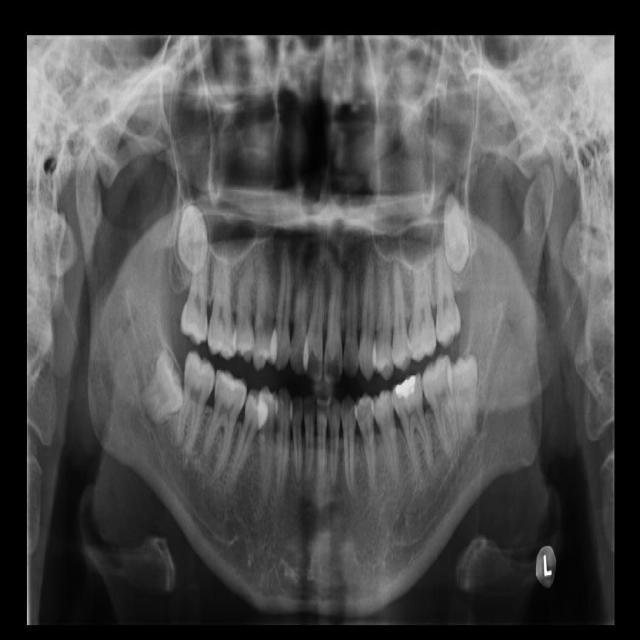3M ESPE Implant: (176, 205, 210, 275)
52: (388, 373, 428, 419)
73: (581, 584, 595, 600)
BioHorizons Implant: (435, 244, 462, 348)
BioLife Implant: (440, 193, 471, 276)
Biomet 3i Implant: (447, 352, 478, 436)
Blue Sky Bio Implant: (418, 353, 461, 453)
Caries: (180, 242, 209, 346)
Implant: (173, 349, 219, 457)
Keystone Dental Implant: (131, 346, 202, 430)
